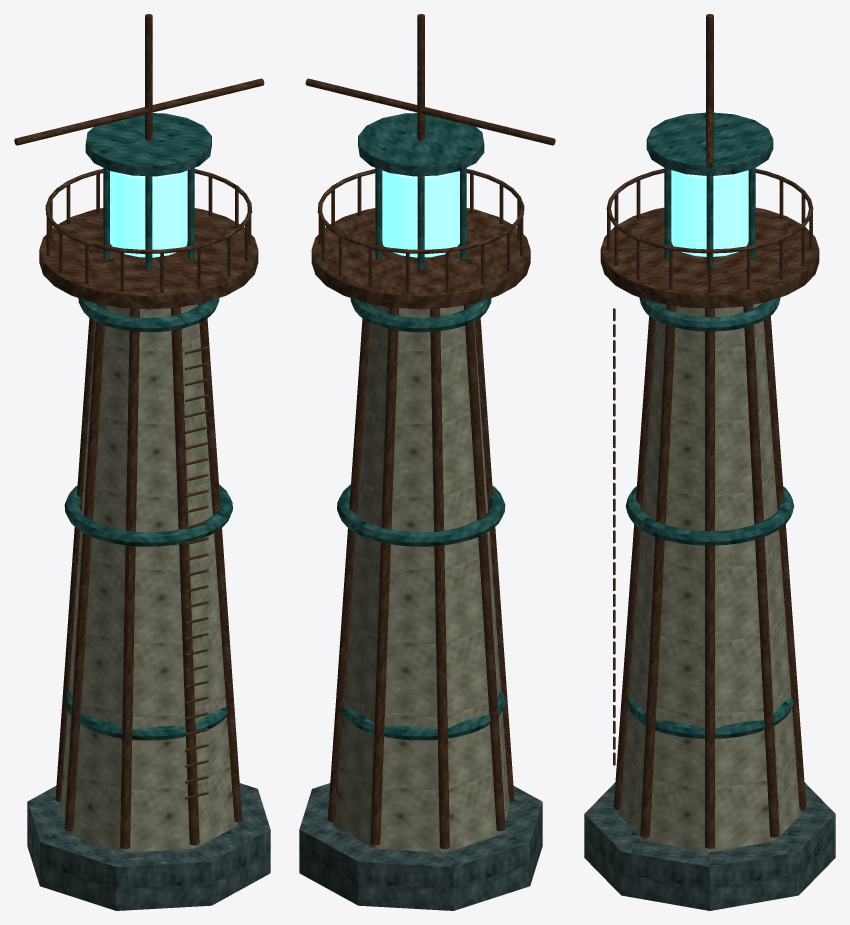
3 views of the same model, side by side, from view 1: azimuth 30°, elevation 25°; view 2: azimuth 150°, elevation 25°; view 3: azimuth 270°, elevation 25° (orthographic).
Visible parts, largest first — view 1: Coast_tower; view 2: Coast_tower; view 3: Coast_tower.
Boxes of the visible parts, x1,y1,x2,y2 form: Coast_tower: (14,14,270,910); Coast_tower: (299,14,555,910); Coast_tower: (584,14,835,910).
Size of the model in its own units: 5.2 by 17 by 4.6.
5 materials, 4 textured.
